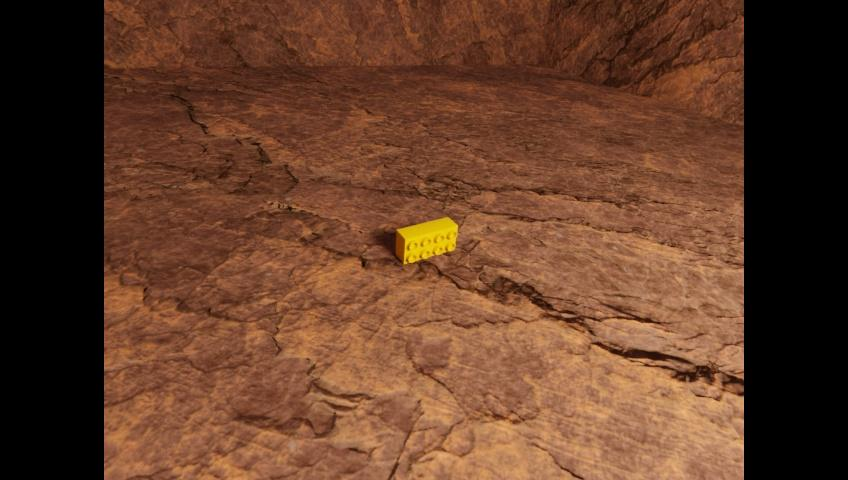4x2_yellow: (395, 216, 457, 263)
